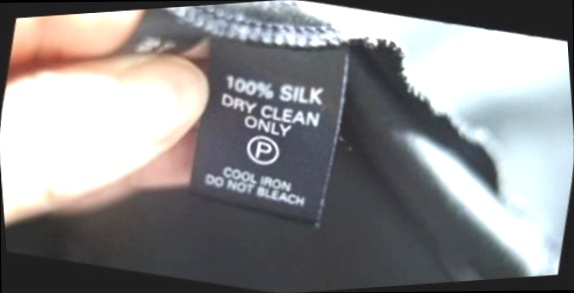dry_clean_any_solvent_except_trichloroethylene: (240, 126, 289, 173)
